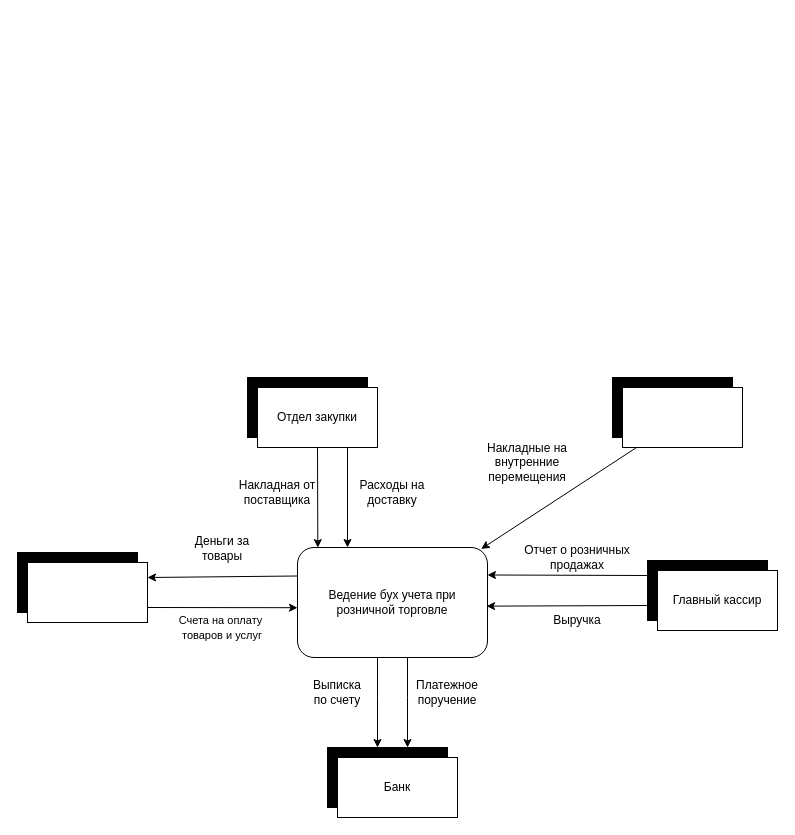
Image size: 795x835. Some labels were removed from this diagram. The centre of each missing label's shape, as x and y in pixels:
"Поставщики" belongs at [87,592].
"Склад" belongs at [682,417].
